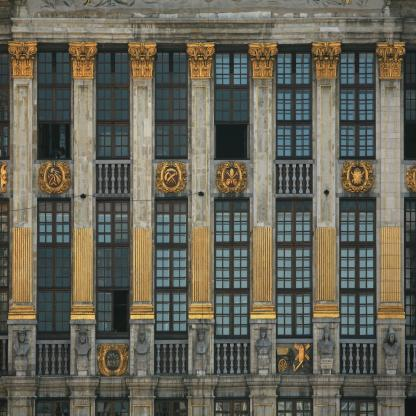Building Outline: (1, 1, 416, 416)
Deco: (276, 343, 313, 375), (95, 344, 130, 377), (341, 160, 375, 193), (38, 161, 71, 194), (155, 161, 188, 194), (216, 161, 248, 194), (382, 323, 400, 375), (317, 325, 336, 374), (74, 327, 91, 376), (13, 328, 30, 376), (255, 327, 272, 374), (134, 327, 150, 376), (193, 328, 209, 375)
Facade: (1, 18, 416, 415)
Floor: (0, 201, 416, 385)
Floor Slab: (0, 377, 416, 385), (0, 193, 416, 201)
Ground Floor: (0, 384, 416, 416)
Molding: (10, 16, 405, 34)
Pillar: (6, 40, 39, 376), (310, 41, 343, 374), (67, 41, 99, 376), (375, 41, 407, 375), (126, 41, 158, 375), (185, 42, 216, 375), (247, 42, 278, 374), (371, 374, 411, 416), (243, 374, 282, 416), (307, 374, 346, 416), (1, 376, 41, 416), (182, 375, 219, 416), (65, 376, 101, 416), (124, 375, 159, 416)
Top Floor: (0, 28, 416, 201)
Window: (340, 198, 376, 374), (276, 43, 313, 194), (214, 198, 250, 340), (276, 198, 312, 339), (154, 197, 189, 340), (36, 198, 71, 340), (96, 197, 130, 340), (340, 43, 376, 160), (37, 43, 72, 160), (154, 43, 189, 160), (214, 43, 249, 160), (96, 43, 130, 160)
